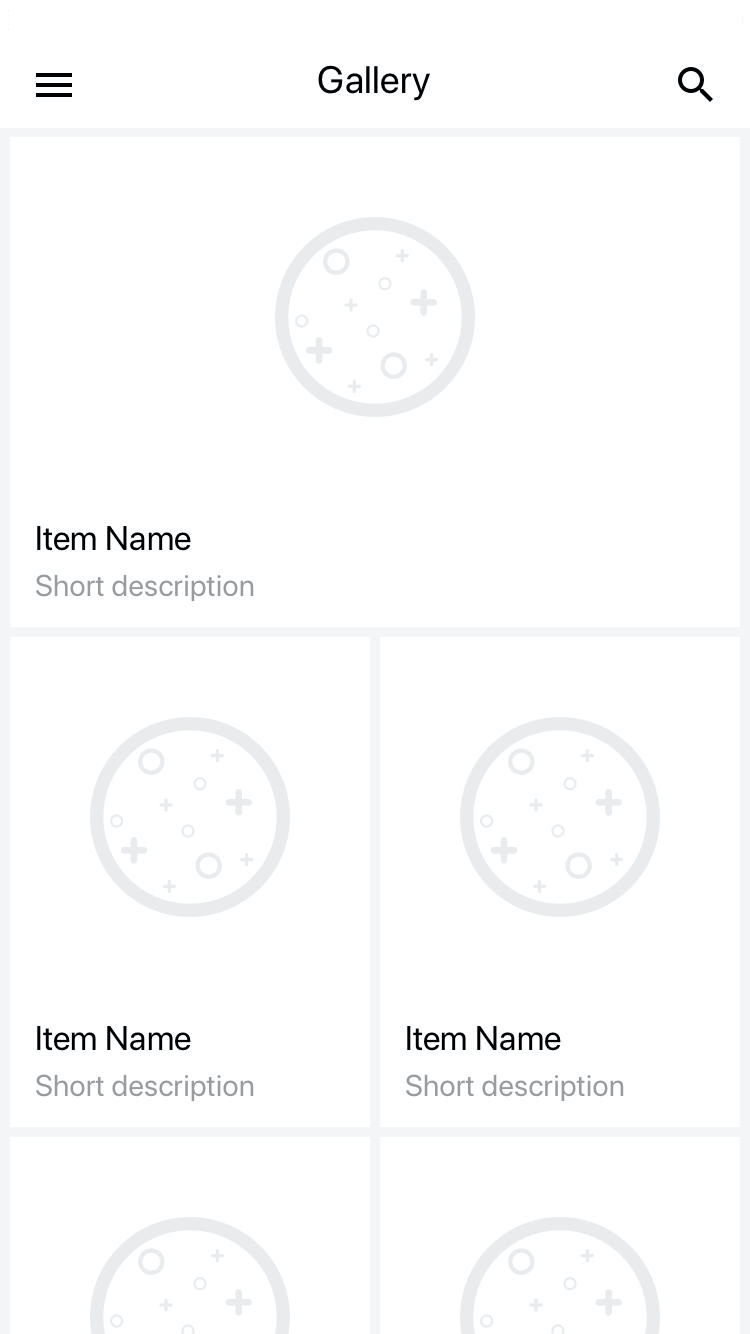Card: (10, 137, 742, 629), (8, 636, 372, 1129), (380, 636, 741, 1129), (9, 1136, 372, 1334), (379, 1136, 741, 1334)
Icon: (677, 67, 714, 103), (36, 73, 74, 99)
Image: (275, 217, 480, 419), (90, 716, 291, 917), (459, 717, 661, 917), (90, 1216, 292, 1334), (459, 1216, 661, 1334)
Text: (36, 574, 255, 603), (36, 1072, 255, 1101), (405, 1073, 626, 1101), (406, 1024, 564, 1053), (37, 1025, 192, 1052), (318, 66, 431, 102), (36, 526, 192, 552)
